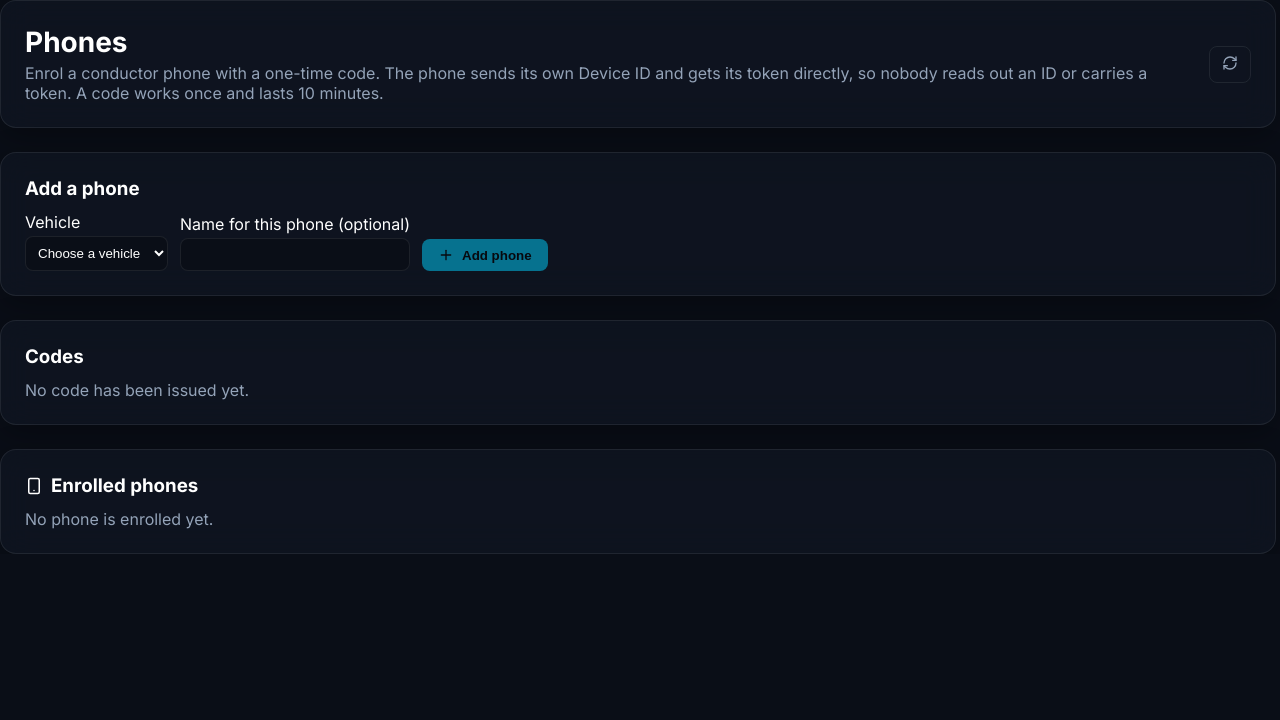
Scenario: Phones: issuing a code › shows no QR when the server has no public address, and says to type the code
Select "BUS-1 (AAA 111)" in the dropdown at {"x": 96, "y": 254}, box left=25, top=236, right=168, bottom=271
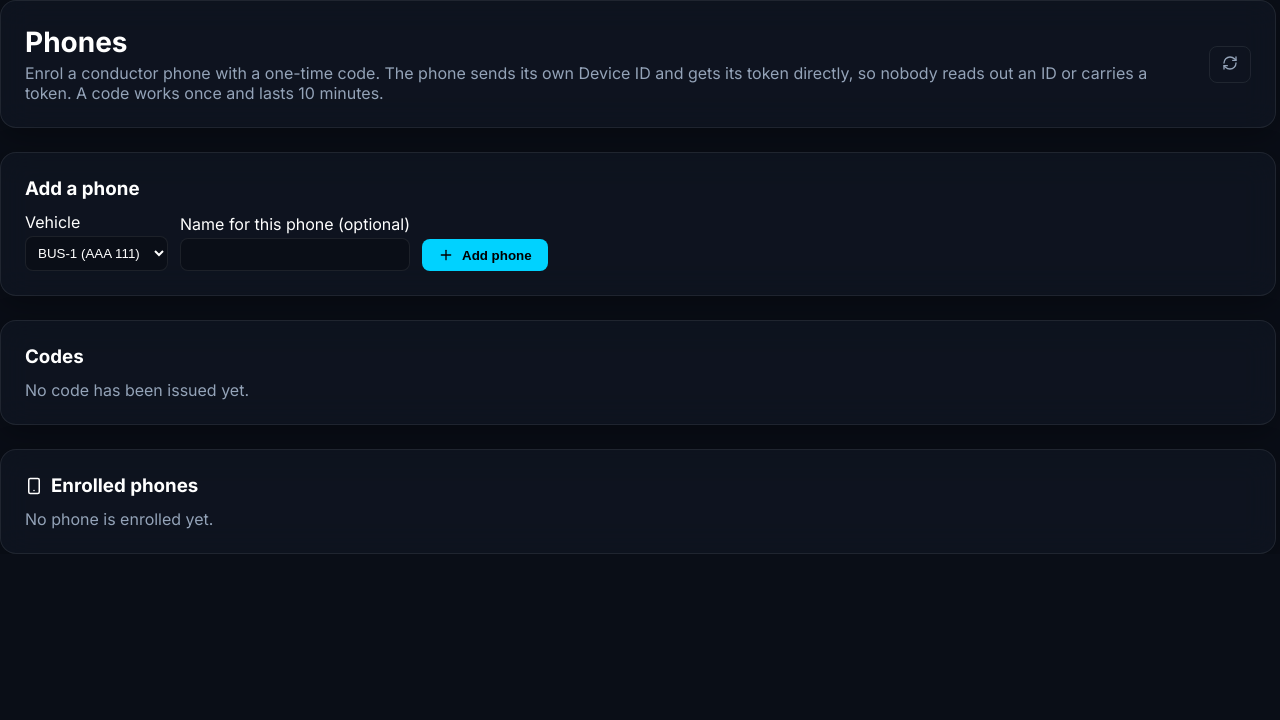
Click the button "Add phone" at {"x": 485, "y": 255}, box left=422, top=239, right=548, bottom=271
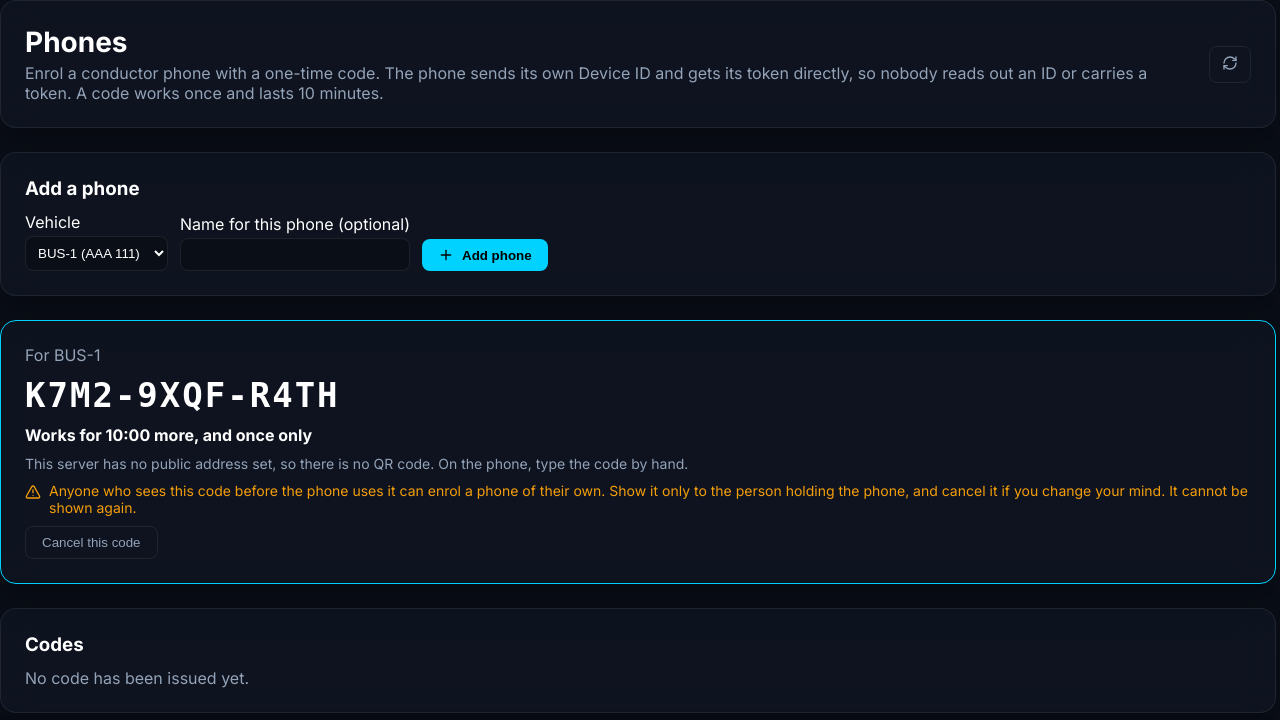
expect the text "no public address set, so there is no QR code" is shown: met, box left=25, top=455, right=688, bottom=472
expect the text named "Pairing code" reads "K7M2-9XQF-R4TH": met, box left=25, top=375, right=340, bottom=415
